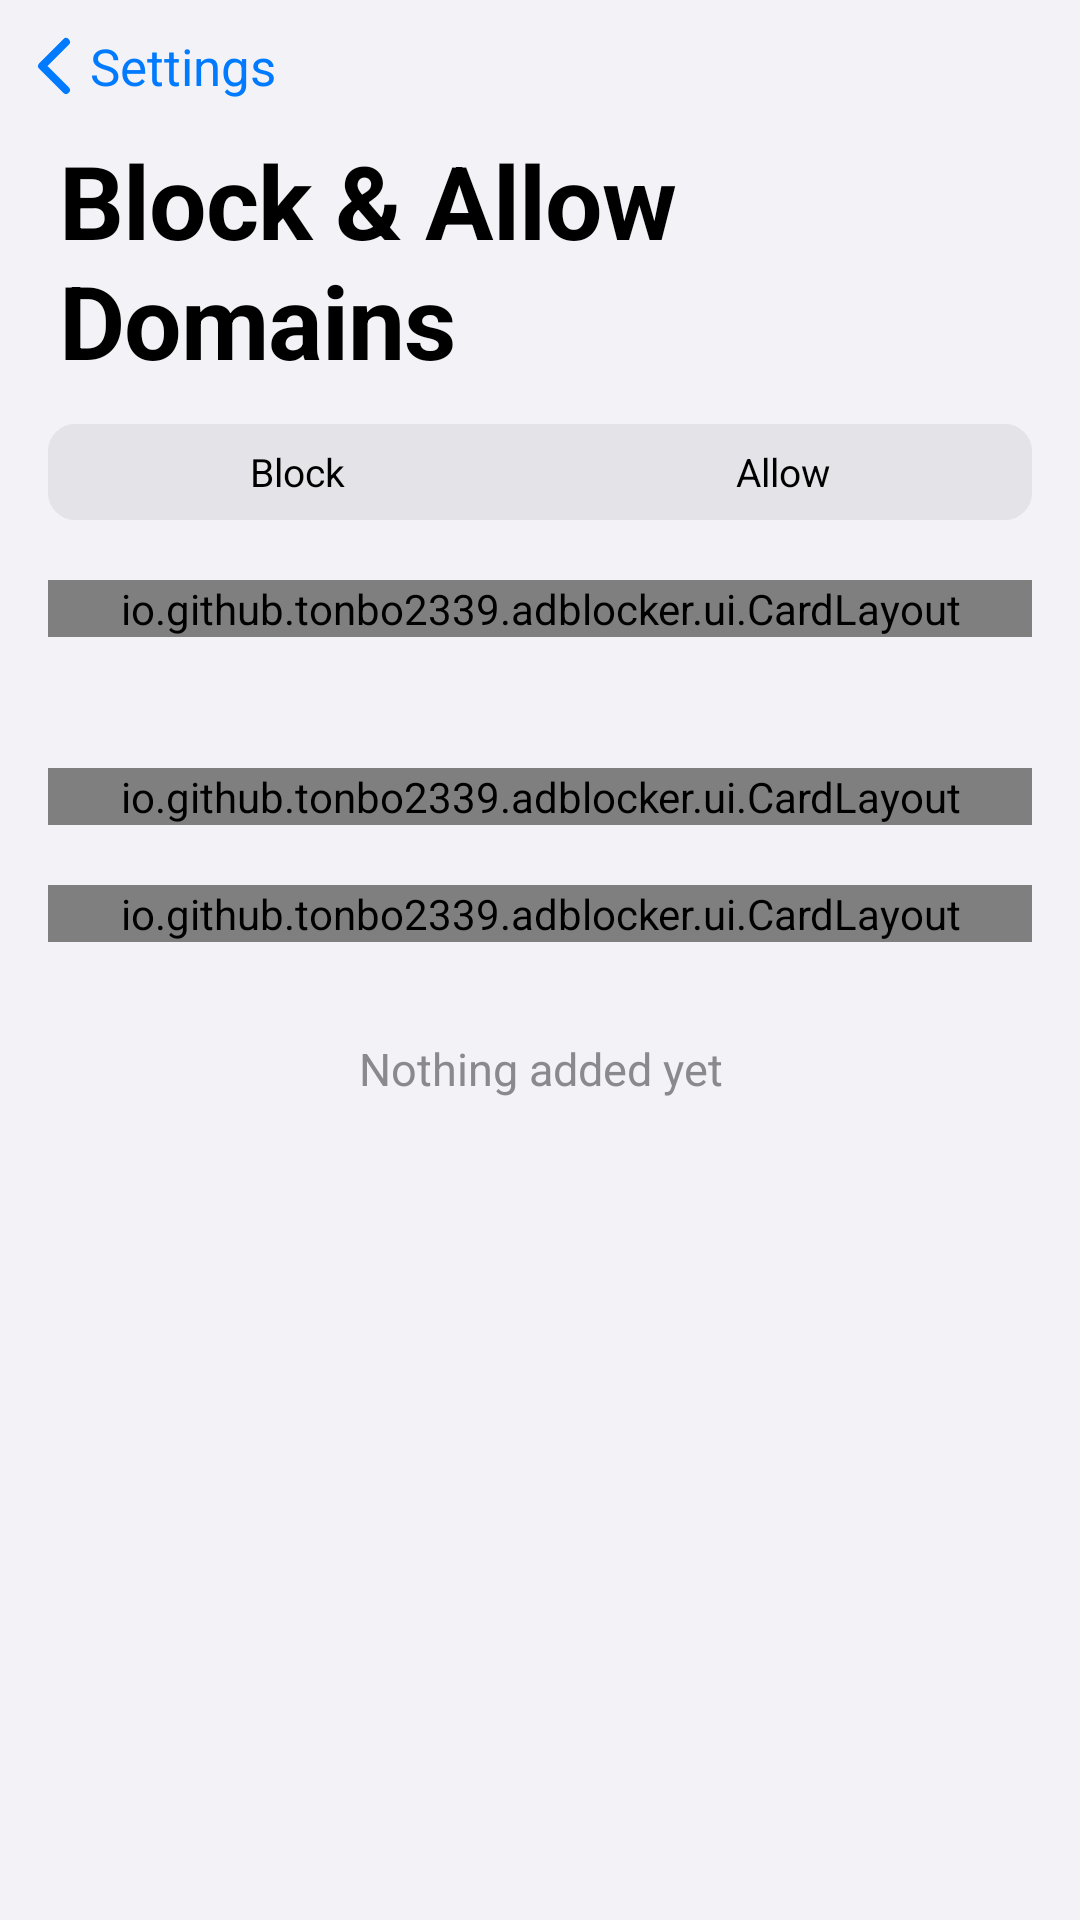

Named icons in this screenshot (1080x1920) and their centers, [x,y]:
back: [54,65]
